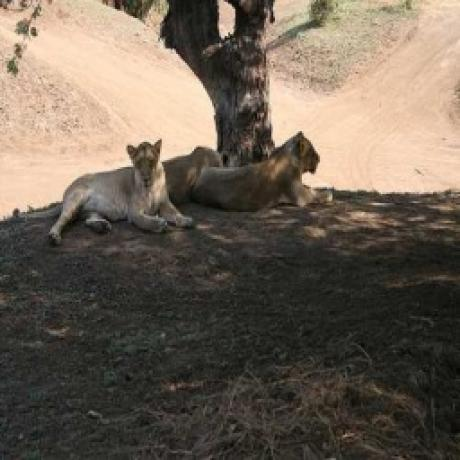Lion: (46, 135, 196, 239), (188, 128, 337, 213)
